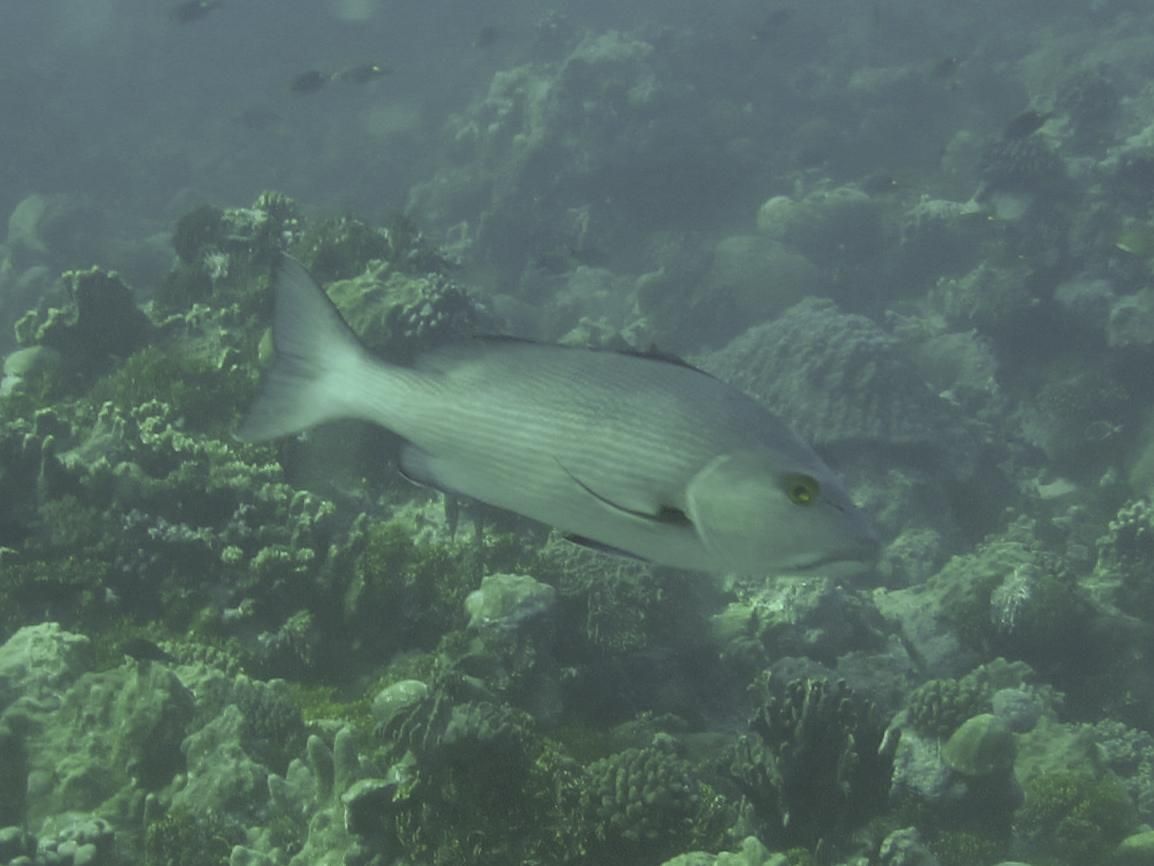Fish: (228, 246, 904, 612)
